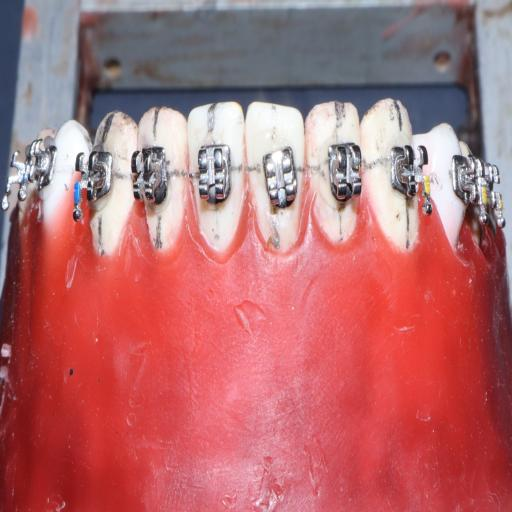correct_brace: (195, 140, 234, 216)
incorrect_brace: (259, 143, 300, 217)
